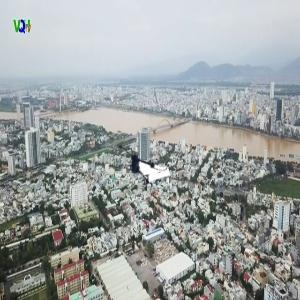drone: (108, 133, 166, 191)
